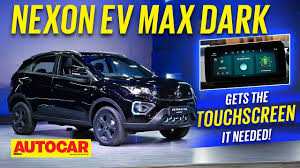Tata Nexon: (6, 51, 198, 146)
